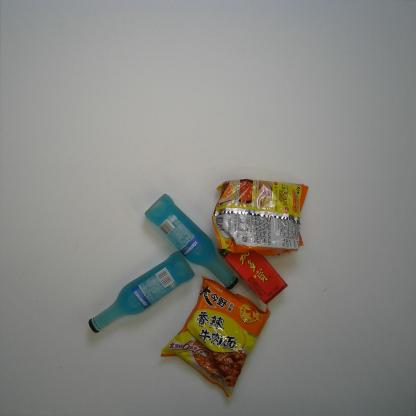Alcohol: (144, 193, 239, 291), (87, 250, 195, 335)
Drink: (216, 245, 289, 305)
Instant Noodles: (159, 275, 272, 398), (211, 178, 309, 257)
